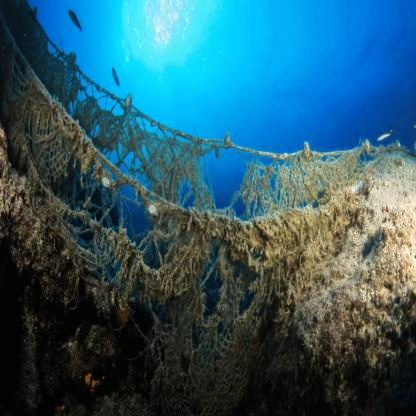net: (35, 144, 365, 401)
